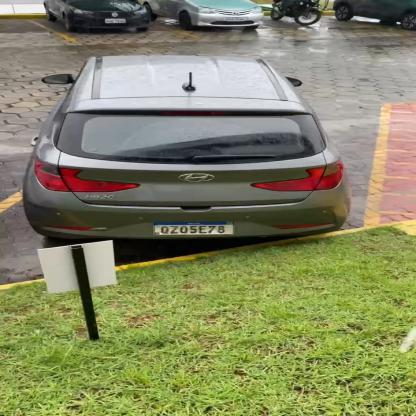Plate: (152, 220, 240, 238)
